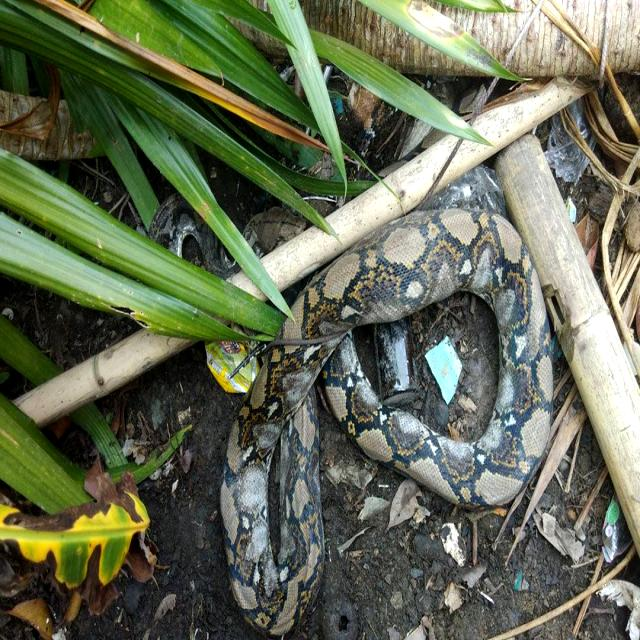Malayopython reticulatus: (221, 210, 552, 635)
snake: (221, 210, 552, 635)
